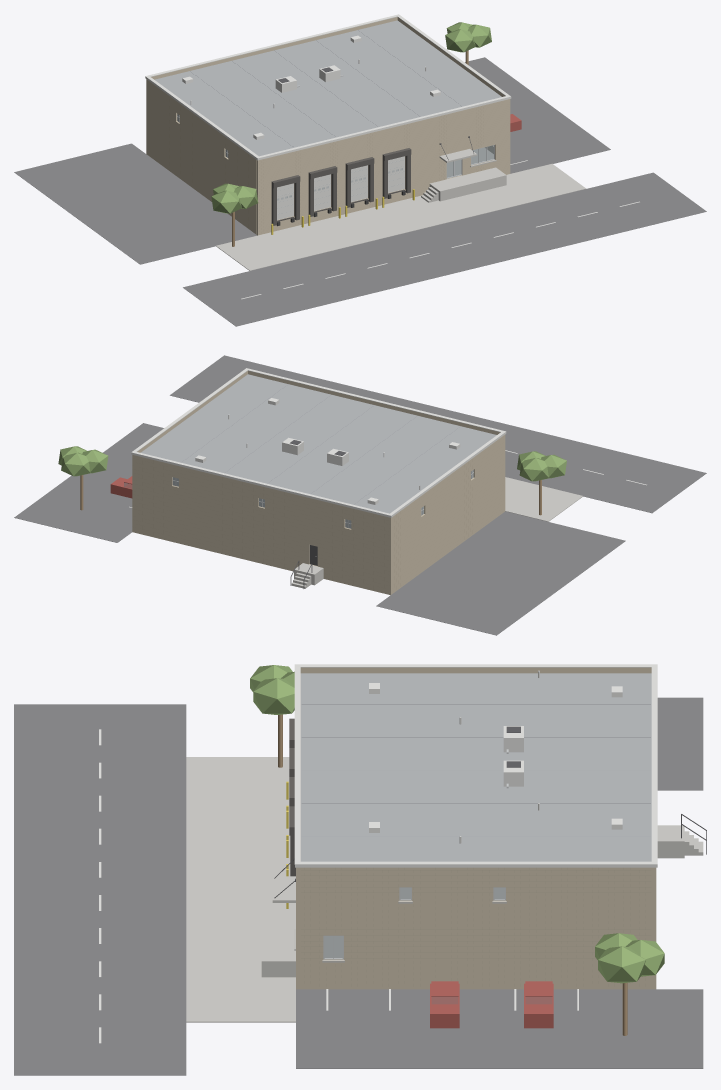
The model's file is clay-cmu-dock-warehouse-clay-v002.glb.
3 renders of one model, top to bottom at view 1: azimuth 30°, elevation 25°; view 2: azimuth 150°, elevation 25°; view 3: azimuth 270°, elevation 25°, orthographic. The views are drawn at different scales.
Parts seen in each view (by area): view 1: CLAY_ASPHALT, CLAY_MEMBRANE, CLAY_WALL, CLAY_CONCRETE, CLAY_PALE, CLAY_DOCK, CLAY_DOOR, CLAY_PLANTING, CLAY_JOINT, CLAY_GLASS, CLAY_ROOF, CLAY_TRIM (+1 smaller); view 2: CLAY_ASPHALT, CLAY_WALL, CLAY_MEMBRANE, CLAY_PALE, CLAY_CONCRETE, CLAY_PLANTING, CLAY_JOINT, CLAY_ROOF; view 3: CLAY_ASPHALT, CLAY_MEMBRANE, CLAY_WALL, CLAY_CONCRETE, CLAY_PALE, CLAY_JOINT, CLAY_PLANTING, CLAY_CAR, CLAY_ROOF, CLAY_WHITE, CLAY_GLASS, CLAY_DOCK (+1 smaller).
Part boxes in pixels (x1=…): CLAY_ASPHALT: x1=14, y1=57, x2=706, y2=326; CLAY_MEMBRANE: x1=154, y1=20, x2=501, y2=156; CLAY_WALL: x1=146, y1=17, x2=510, y2=235; CLAY_CONCRETE: x1=216, y1=149, x2=586, y2=270; CLAY_PALE: x1=145, y1=14, x2=511, y2=160; CLAY_DOCK: x1=271, y1=148, x2=411, y2=225; CLAY_DOOR: x1=277, y1=156, x2=404, y2=219; CLAY_PLANTING: x1=211, y1=22, x2=491, y2=213; CLAY_JOINT: x1=169, y1=99, x2=483, y2=233; CLAY_GLASS: x1=177, y1=114, x2=493, y2=200; CLAY_ROOF: x1=190, y1=30, x2=462, y2=147; CLAY_TRIM: x1=177, y1=75, x2=494, y2=214; CLAY_ASPHALT: x1=14, y1=355, x2=706, y2=635; CLAY_WALL: x1=132, y1=371, x2=505, y2=595; CLAY_MEMBRANE: x1=141, y1=374, x2=496, y2=513; CLAY_PALE: x1=131, y1=368, x2=506, y2=556; CLAY_CONCRETE: x1=291, y1=477, x2=583, y2=588; CLAY_PLANTING: x1=58, y1=446, x2=566, y2=481; CLAY_JOINT: x1=142, y1=459, x2=472, y2=589; CLAY_ROOF: x1=181, y1=384, x2=460, y2=504; CLAY_ASPHALT: x1=14, y1=697, x2=703, y2=1075; CLAY_MEMBRANE: x1=301, y1=673, x2=651, y2=861; CLAY_WALL: x1=296, y1=667, x2=656, y2=989; CLAY_CONCRETE: x1=186, y1=757, x2=703, y2=1022; CLAY_PALE: x1=294, y1=664, x2=657, y2=867; CLAY_JOINT: x1=301, y1=868, x2=650, y2=986; CLAY_PLANTING: x1=250, y1=665, x2=664, y2=983; CLAY_CAR: x1=430, y1=981, x2=553, y2=1028; CLAY_ROOF: x1=301, y1=704, x2=650, y2=836; CLAY_WHITE: x1=99, y1=683, x2=622, y2=1043; CLAY_GLASS: x1=324, y1=887, x2=551, y2=1003; CLAY_DOCK: x1=289, y1=718, x2=295, y2=876.
Size of the model in its own units: 57 by 9.48 by 44.23.
